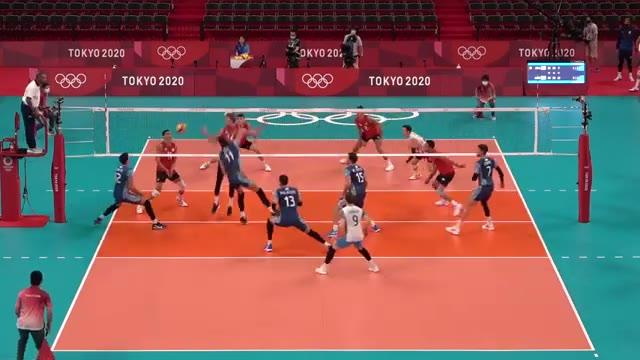ball: (174, 122, 189, 133)
